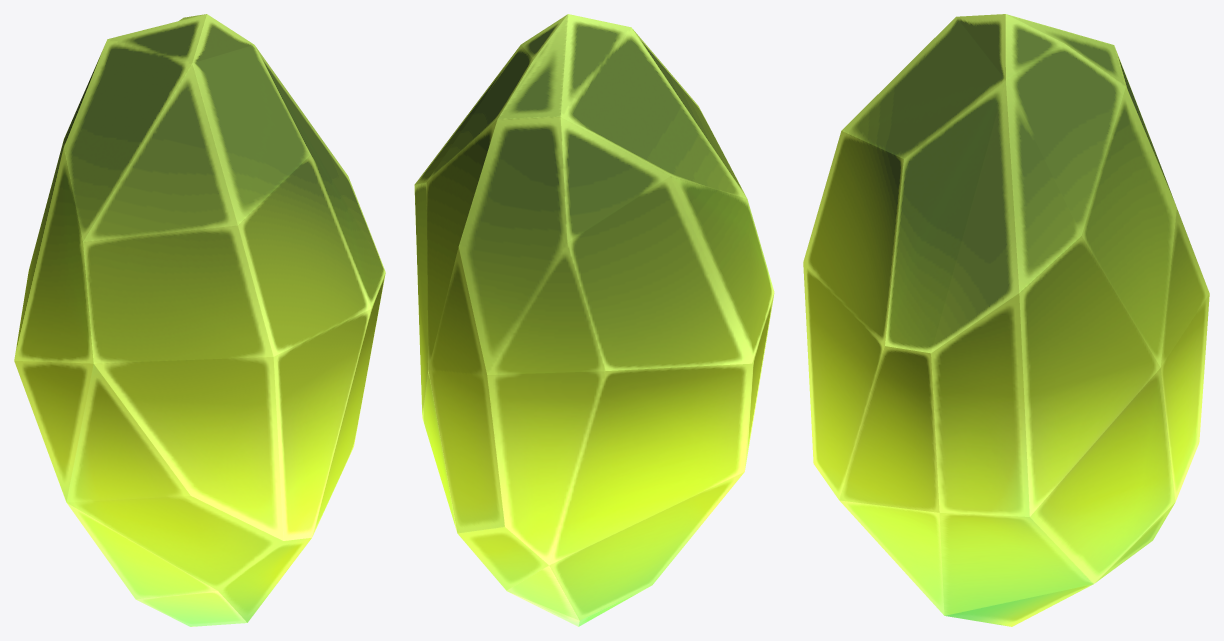
The model's file is crystal_effect_green.fbx.
3 views of the same model, side by side, from view 1: azimuth 30°, elevation 25°; view 2: azimuth 150°, elevation 25°; view 3: azimuth 270°, elevation 25° (orthographic). The views are drawn at different scales.
Parts seen in each view (by area): view 1: crystal_effect_green; view 2: crystal_effect_green; view 3: crystal_effect_green.
Boxes of the visible parts, bbox=[...] form: crystal_effect_green: bbox=[14, 14, 385, 626]; crystal_effect_green: bbox=[414, 14, 774, 626]; crystal_effect_green: bbox=[803, 14, 1209, 626].
Size of the model in its own units: 3.13 by 5.43 by 3.23.
